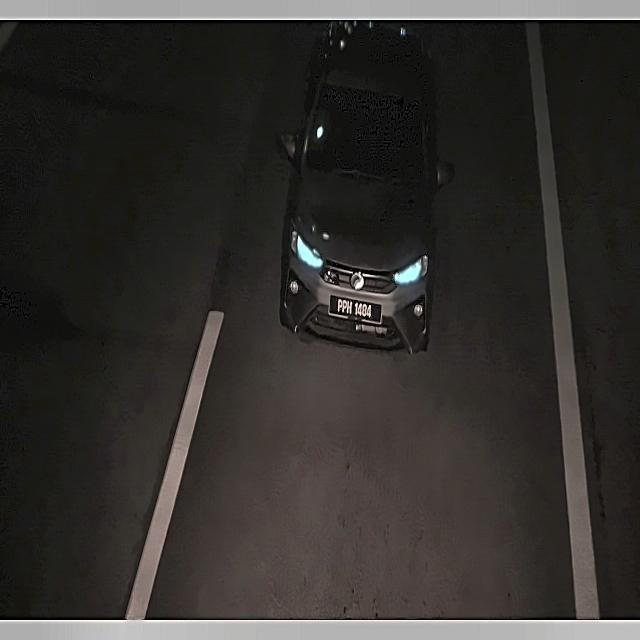car: (331, 288, 378, 329)
